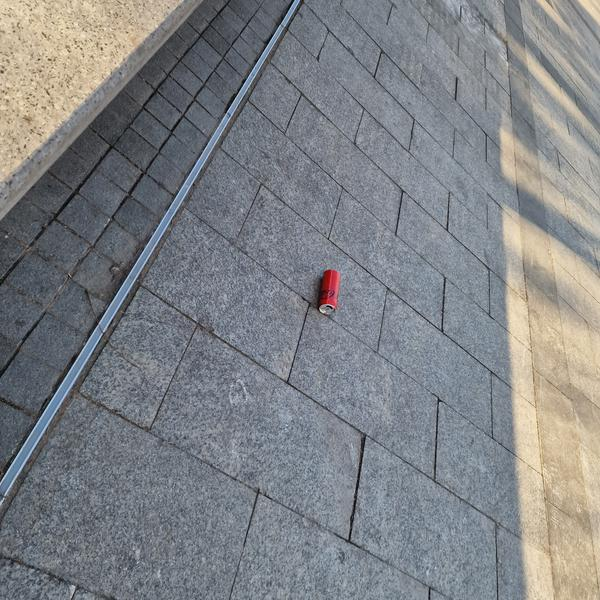can: (317, 268, 342, 316)
